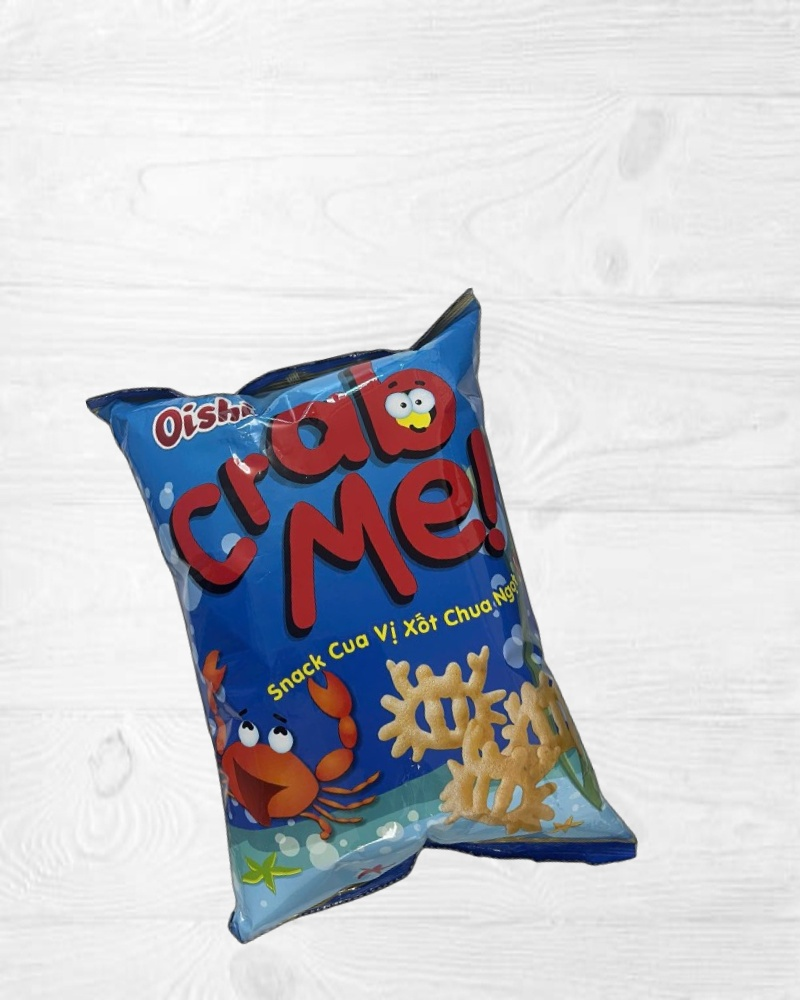Snack chay: (84, 284, 642, 966)
